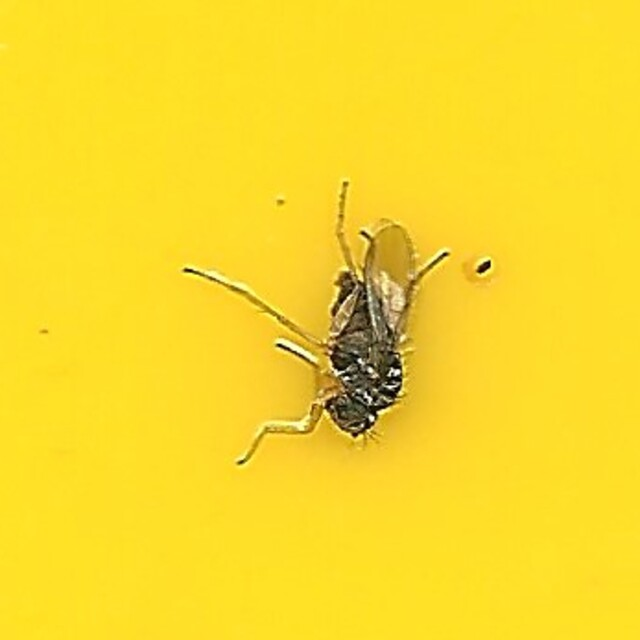Brachycera: (184, 182, 456, 458)
